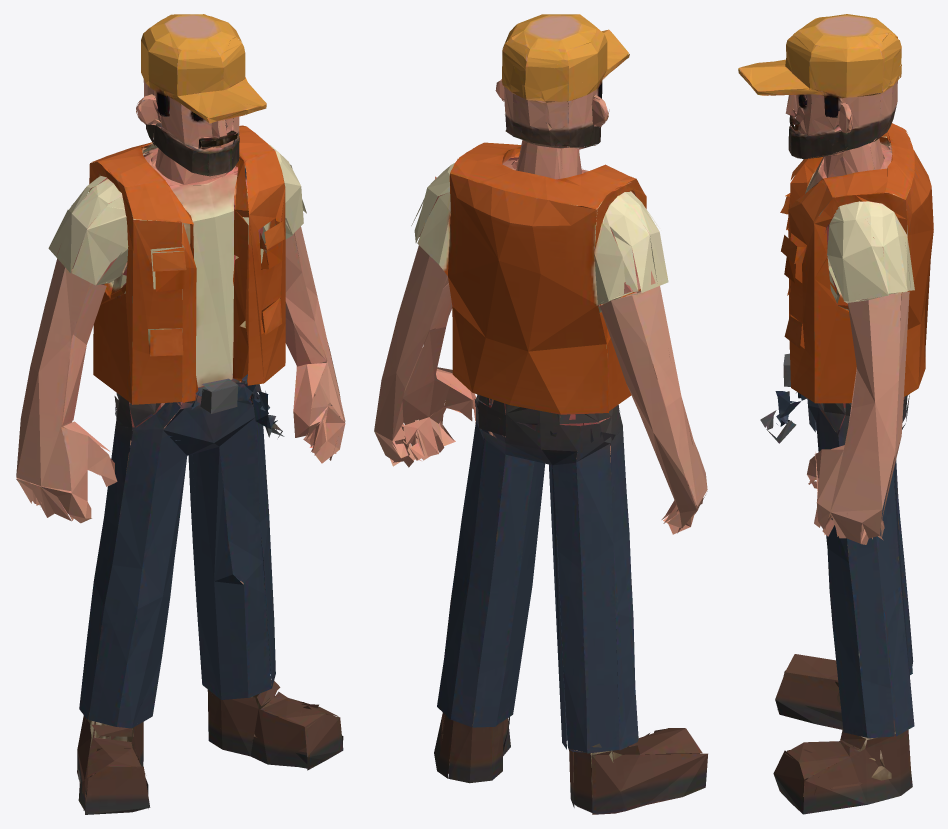
Rendered from habitant.glb.
3 renders of one model, left to right at view 1: azimuth 30°, elevation 25°; view 2: azimuth 150°, elevation 25°; view 3: azimuth 270°, elevation 25°, orthographic. The views are drawn at different scales.
Parts seen in each view (by area): view 1: world; view 2: world; view 3: world.
Part boxes in pixels (bbox=[...]): world: bbox=[16, 14, 345, 814]; world: bbox=[374, 14, 707, 814]; world: bbox=[738, 14, 933, 814].
Size of the model in its own units: 0.4545 by 1.01 by 0.2439.
Materials: 1 (1 with a texture image).
